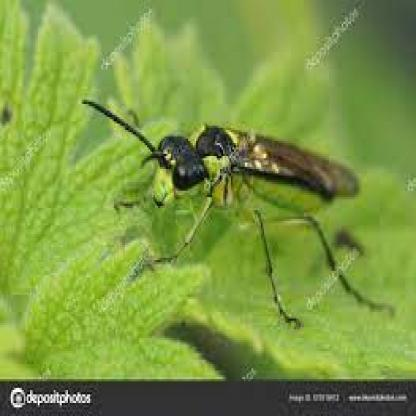sawfly: (80, 97, 390, 329)
